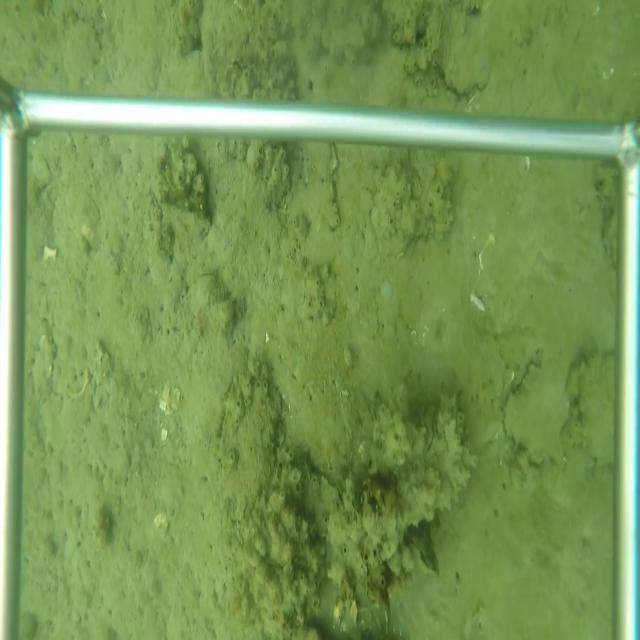Oyster-Closed: (436, 33, 499, 101), (403, 529, 442, 577), (423, 407, 438, 459)
Oyster-Indeterminate: (502, 346, 577, 472)
